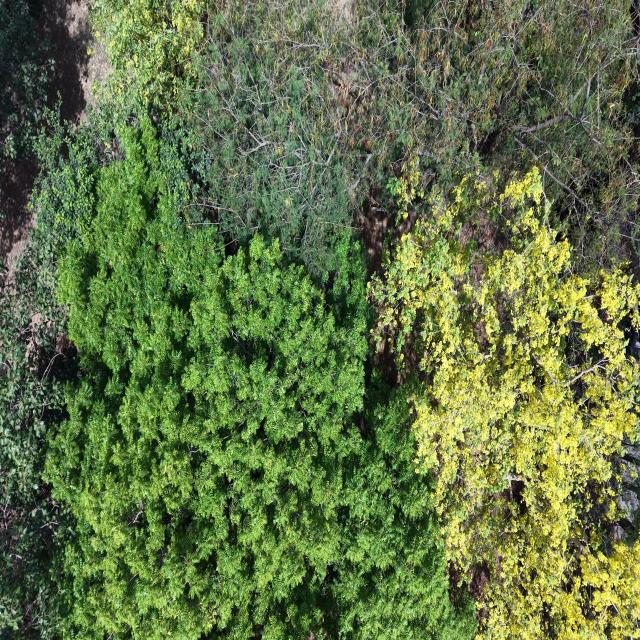DRY_AREA: (0, 158, 77, 638), (36, 0, 109, 125), (38, 0, 108, 126), (38, 0, 108, 125), (38, 0, 106, 125), (39, 0, 91, 124), (355, 190, 421, 279), (62, 0, 109, 124), (355, 193, 417, 279), (355, 195, 417, 279), (0, 159, 36, 270), (335, 0, 355, 22)
VEGETATION_TREE: (0, 0, 639, 639), (45, 121, 474, 638), (96, 0, 639, 277), (371, 169, 639, 639), (176, 0, 638, 272), (405, 0, 638, 256), (0, 127, 101, 638), (0, 0, 80, 638), (176, 3, 353, 279), (0, 239, 73, 638), (0, 0, 54, 265), (91, 0, 209, 117), (0, 0, 54, 190)
